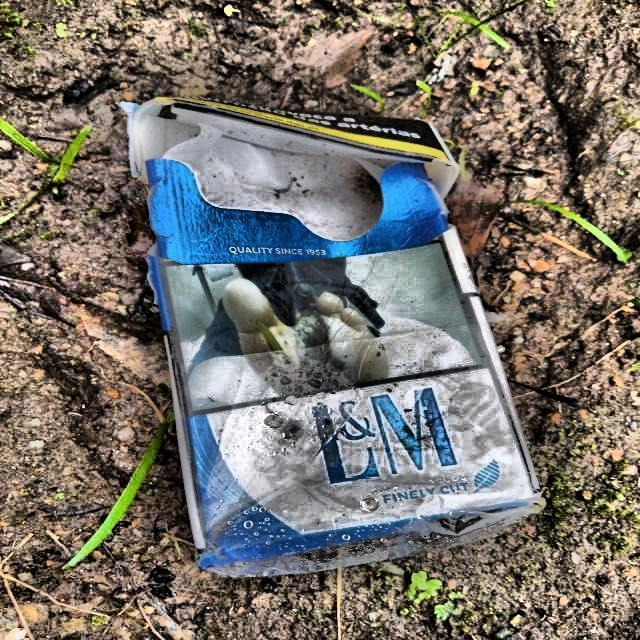cardboard: (129, 99, 541, 580)
